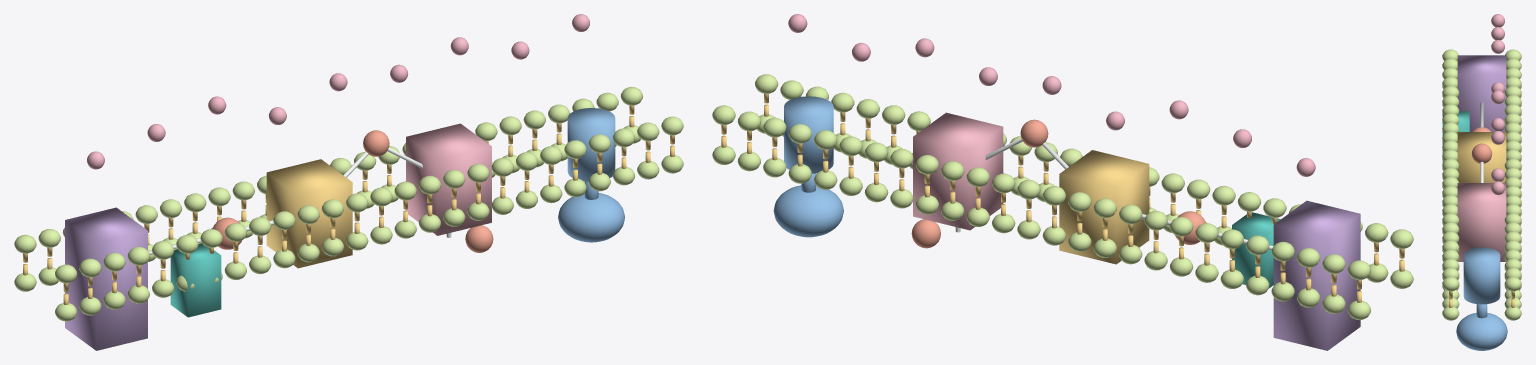
The model's file is respiratory-etc.glb.
The picture shows the model from 3 angles, left to right: view 1: azimuth 30°, elevation 25°; view 2: azimuth 150°, elevation 25°; view 3: azimuth 270°, elevation 25°; orthographic projection. The views are drawn at different scales.
Parts seen in each view (by area): view 1: Phospholipid bilayer, Complex I, Complex IV, Complex III, Complex II, ATP synthase catalytic head, ATP synthase channel, Protons on high-concentration side, Oxygen acceptor, Cytochrome c; view 2: Phospholipid bilayer, Complex I, Complex IV, Complex III, ATP synthase catalytic head, ATP synthase channel, Protons on high-concentration side, Complex II, Oxygen acceptor, Cytochrome c; view 3: Phospholipid bilayer, Complex IV, Complex I, ATP synthase channel, Complex III, ATP synthase catalytic head, Protons on high-concentration side, Cytochrome c, Complex II, Electron route, ATP synthase stalk.
Boxes of the visible parts, x1=… form: Phospholipid bilayer: x1=14, y1=86, x2=683, y2=321; Complex I: x1=65, y1=207, x2=147, y2=350; Complex IV: x1=406, y1=123, x2=491, y2=235; Complex III: x1=266, y1=159, x2=352, y2=268; Complex II: x1=170, y1=243, x2=221, y2=317; ATP synthase catalytic head: x1=558, y1=193, x2=624, y2=242; ATP synthase channel: x1=567, y1=108, x2=615, y2=181; Protons on high-concentration side: x1=87, y1=14, x2=589, y2=169; Oxygen acceptor: x1=465, y1=225, x2=493, y2=252; Cytochrome c: x1=363, y1=130, x2=389, y2=156; Phospholipid bilayer: x1=712, y1=74, x2=1413, y2=319; Complex I: x1=1273, y1=200, x2=1360, y2=350; Complex IV: x1=913, y1=112, x2=1003, y2=230; Complex III: x1=1059, y1=150, x2=1149, y2=264; ATP synthase catalytic head: x1=773, y1=185, x2=843, y2=237; ATP synthase channel: x1=784, y1=96, x2=833, y2=173; Protons on high-concentration side: x1=788, y1=14, x2=1315, y2=176; Complex II: x1=1232, y1=212, x2=1280, y2=288; Oxygen acceptor: x1=911, y1=219, x2=940, y2=248; Cytochrome c: x1=1020, y1=119, x2=1048, y2=147; Phospholipid bilayer: x1=1442, y1=49, x2=1521, y2=320; Complex IV: x1=1457, y1=183, x2=1506, y2=261; Complex I: x1=1457, y1=55, x2=1506, y2=131; ATP synthase channel: x1=1463, y1=247, x2=1500, y2=304; Complex III: x1=1457, y1=132, x2=1506, y2=182; ATP synthase catalytic head: x1=1456, y1=313, x2=1507, y2=350; Protons on high-concentration side: x1=1491, y1=14, x2=1504, y2=195; Cytochrome c: x1=1471, y1=143, x2=1492, y2=163; Complex II: x1=1442, y1=111, x2=1469, y2=163; Electron route: x1=1480, y1=102, x2=1483, y2=182; ATP synthase stalk: x1=1476, y1=304, x2=1487, y2=318.
Size of the model in its own units: 10.32 by 3.5 by 1.48.
